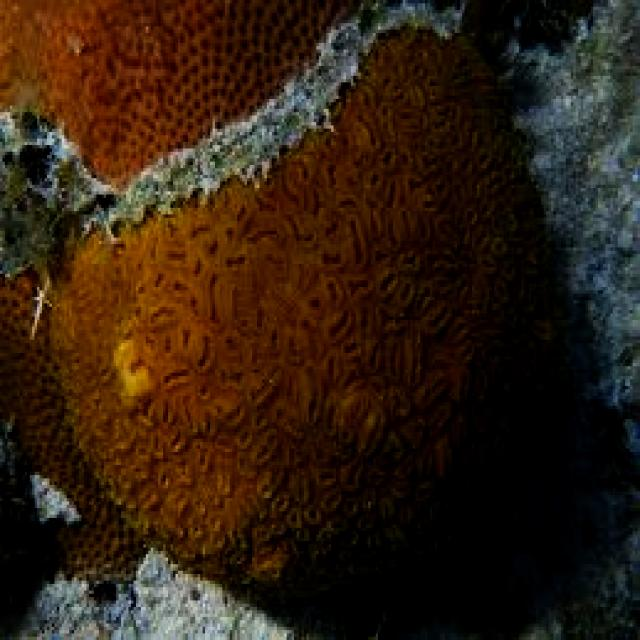Coral: (0, 0, 556, 602)
